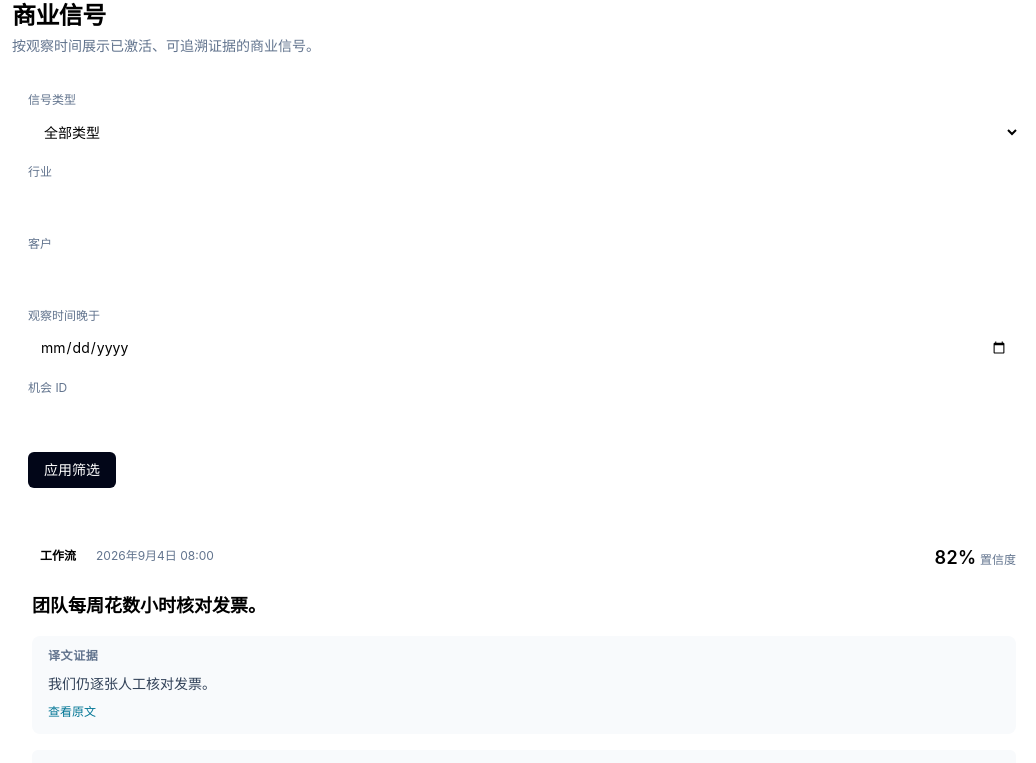
Test case: Signals and watchlist UI › keeps translated evidence distinct and reveals the original on demand
The width and height of the screenshot is (1036, 763).
Expected: the heading "译文证据" is shown, [48,648,98,663]
Expected: the text "We review every invoice by hand." is not shown
Click the button "查看原文".
click(72, 712)  # box [48,704,96,720]
(page scrolled)
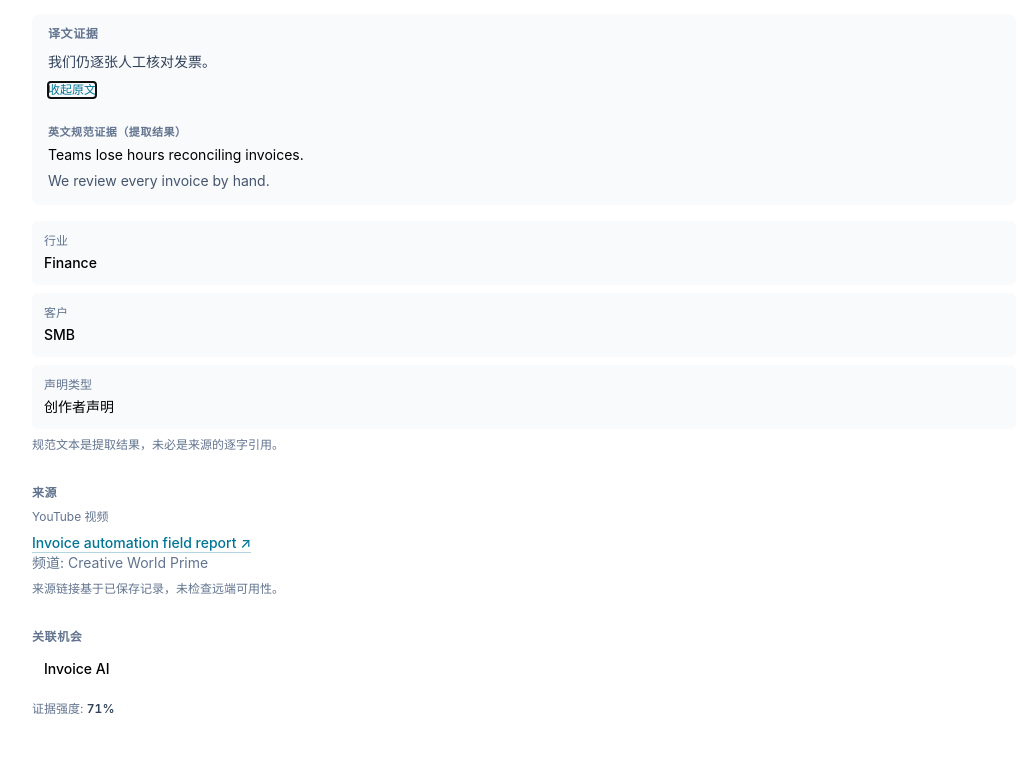
Expected: the text "声明类型" is shown, [44,376,92,392]
Expected: the text "We review every invoice by hand." is shown, [48,172,270,188]
